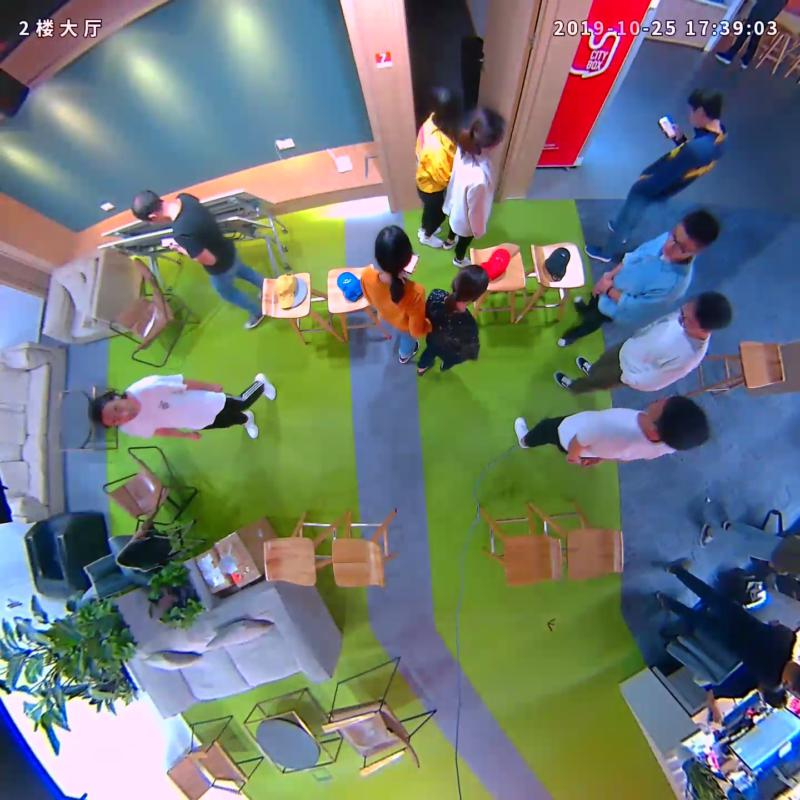head: (648, 393, 710, 449), (661, 210, 719, 261), (678, 292, 732, 335), (87, 390, 139, 429), (469, 105, 507, 156), (375, 225, 413, 273), (687, 87, 722, 129), (430, 83, 462, 128), (453, 264, 488, 303), (132, 190, 165, 223)
